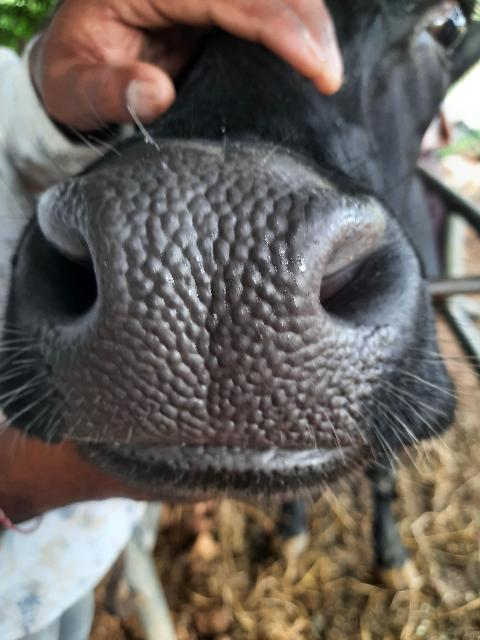Muzzle: (74, 165, 356, 448)
